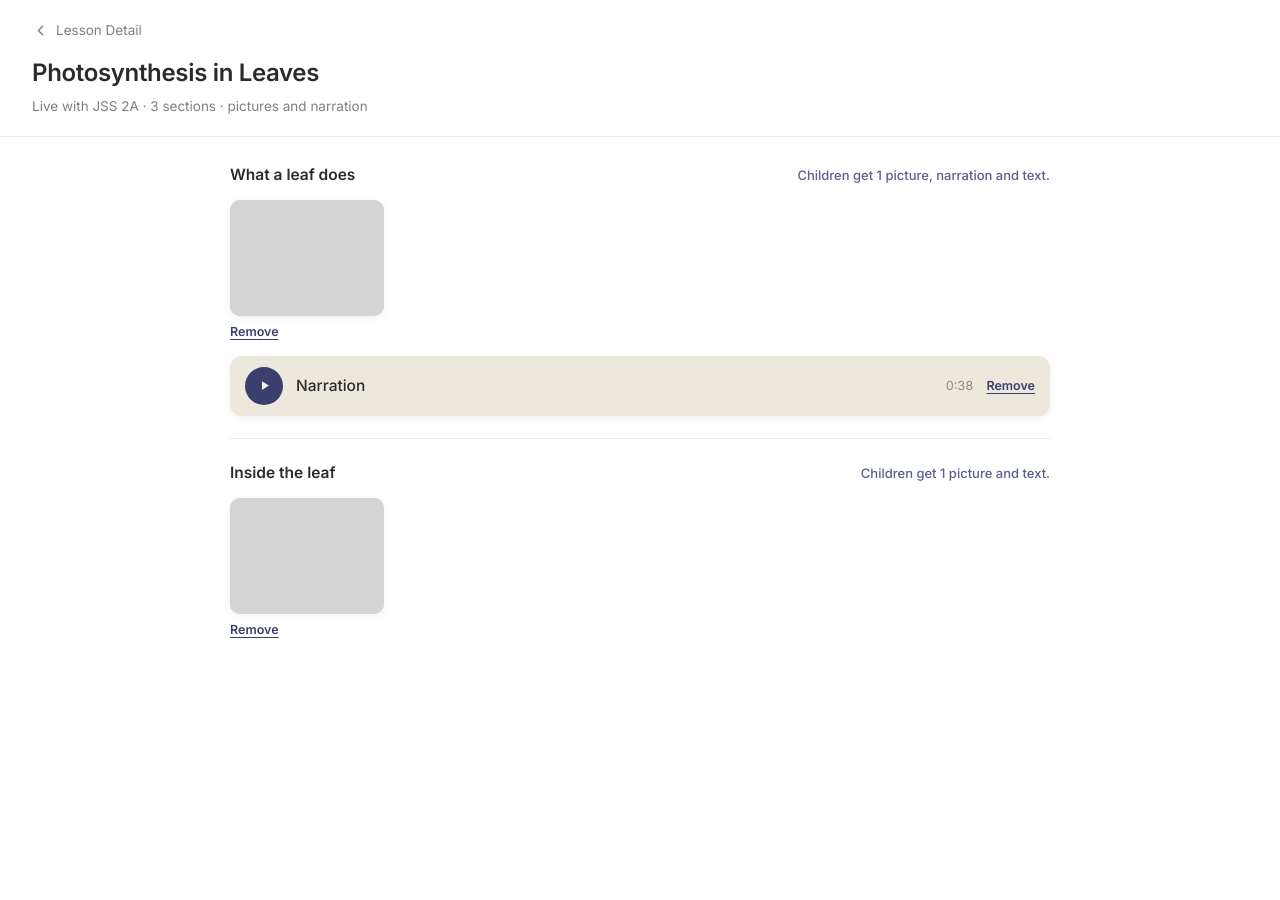
Scenario: pulling one › says a section is text only once its last item is gone
Expected: the heading "Photosynthesis in Leaves" is shown, x1=32 y1=58 x2=319 y2=87
Click the button with aria-label "Remove the picture from Inside the leaf": x=254, y=630 x1=230 y1=621 x2=278 y2=640
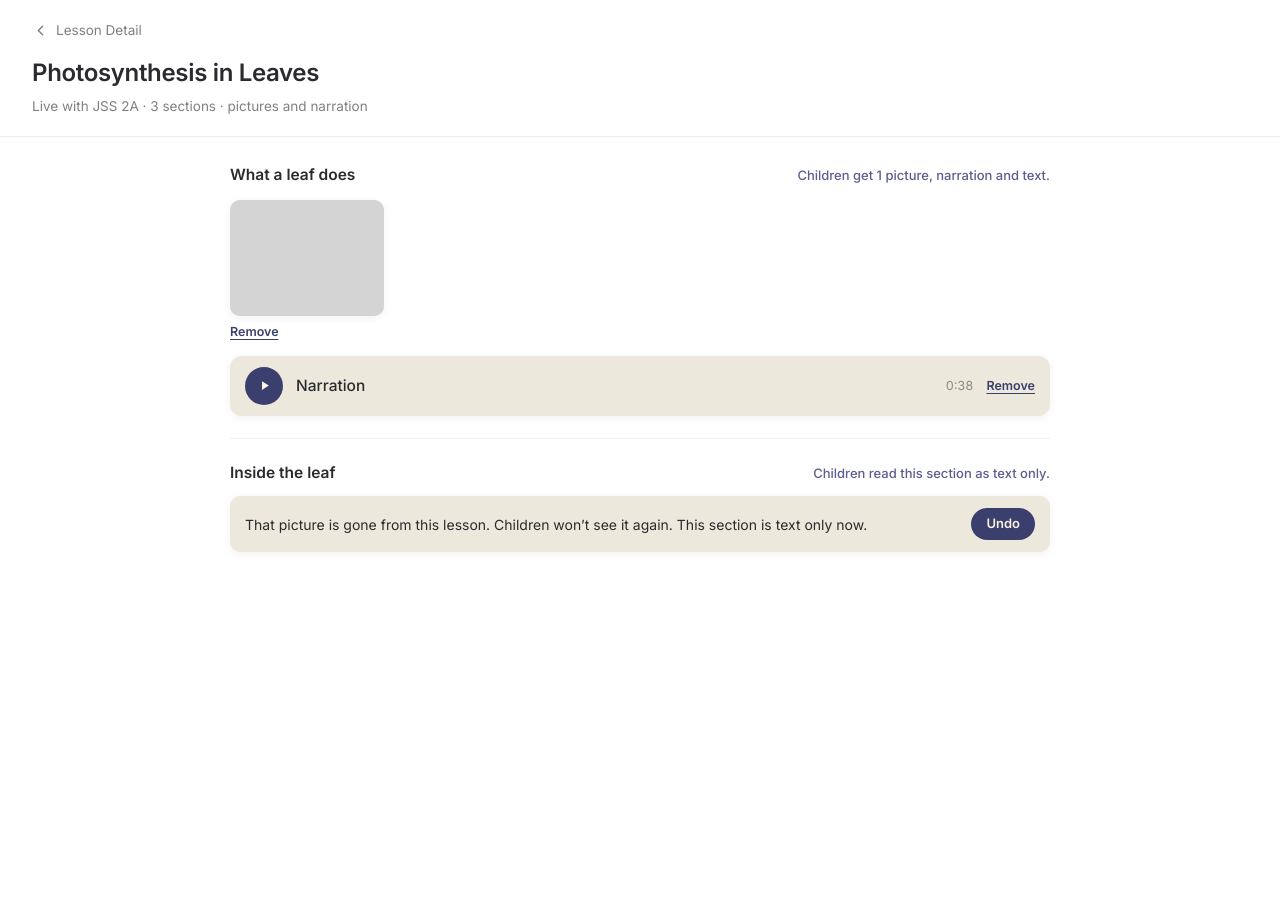
Now the text "This section is text only now." is shown, box x1=673 y1=516 x2=867 y2=533
Now the text "Children read this section as text only." is shown, box x1=813 y1=464 x2=1050 y2=483
